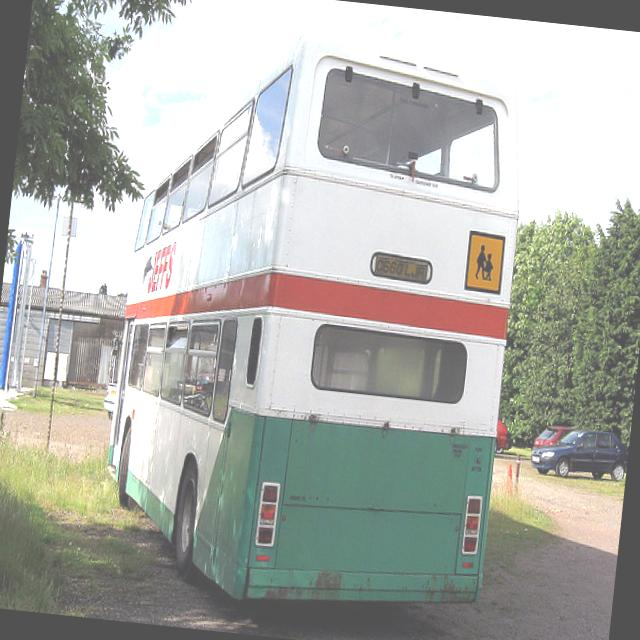Vehicle: (90, 13, 531, 624), (527, 421, 630, 485), (532, 422, 574, 453), (491, 417, 512, 462), (102, 381, 117, 420)
